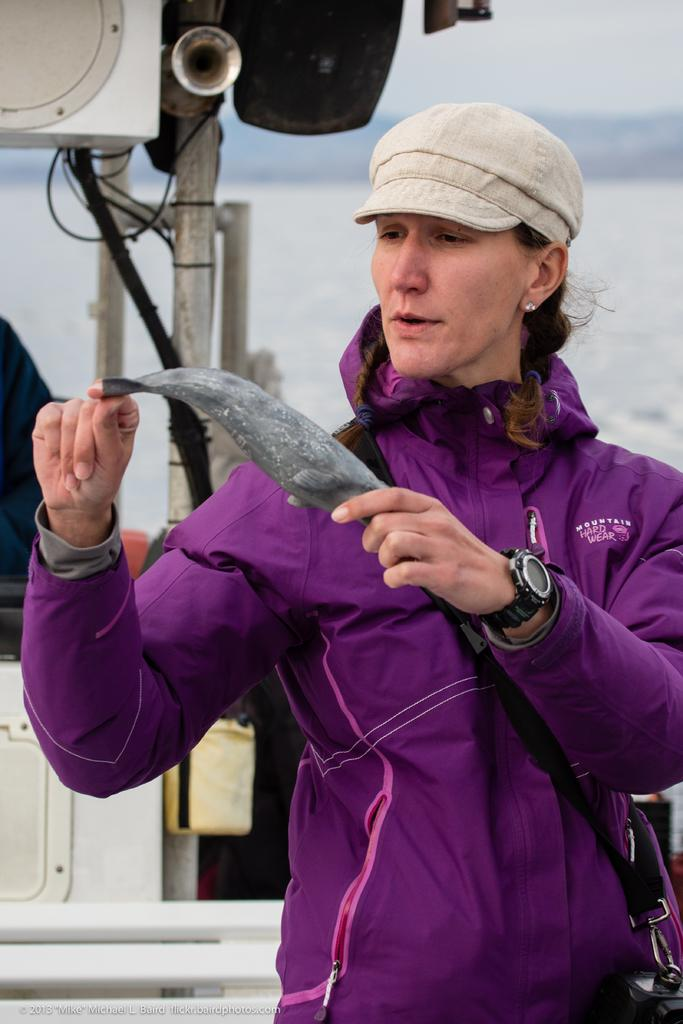Hat: (350, 98, 582, 245)
